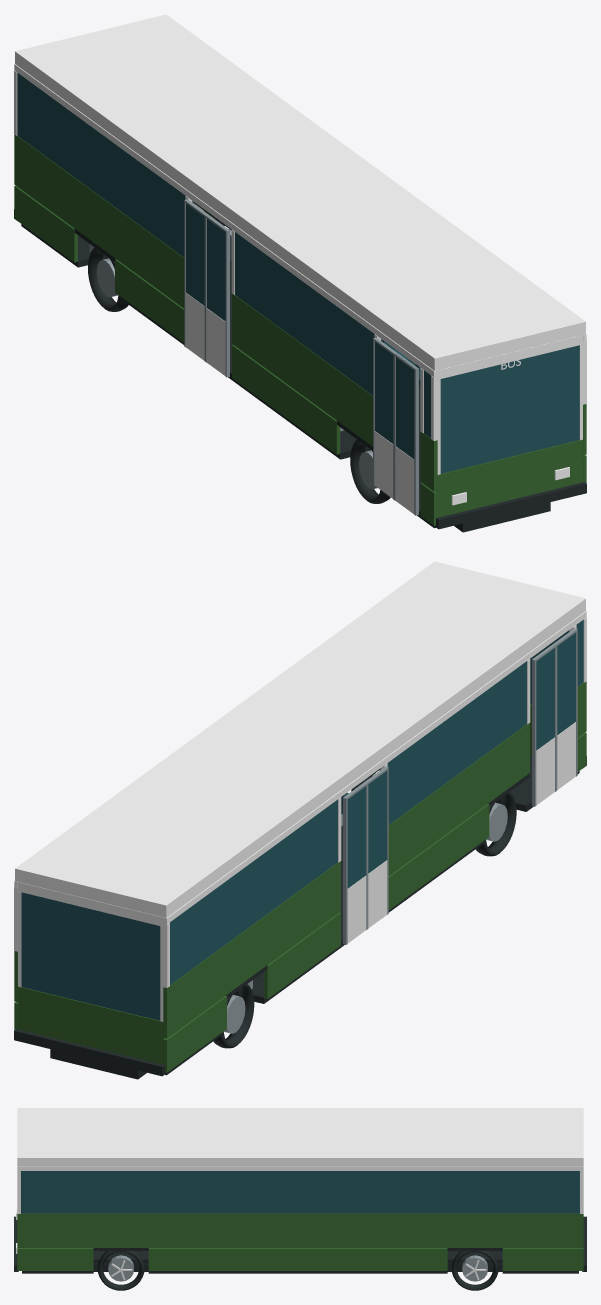
The model's file is bus_hd.glb.
The picture shows the model from 3 angles, top to bottom: view 1: azimuth 30°, elevation 25°; view 2: azimuth 150°, elevation 25°; view 3: azimuth 270°, elevation 25°; orthographic projection. The views are drawn at different scales.
Visible parts, largest first — view 1: body, wheel_RL, wheel_FL; view 2: body, wheel_FL, wheel_RL; view 3: body, wheel_FR, wheel_RR.
Part boxes in pixels (box(x1,y1,x2,y2)): body: box(14, 14, 586, 532); wheel_RL: box(88, 247, 128, 311); wheel_FL: box(350, 439, 390, 503); body: box(14, 561, 586, 1079); wheel_FL: box(475, 792, 516, 856); wheel_RL: box(213, 984, 254, 1048); body: box(14, 1108, 586, 1273); wheel_FR: box(97, 1251, 144, 1290); wheel_RR: box(451, 1251, 498, 1290).
Bounding box in the file's own units: 2.57 × 3.16 × 12.
